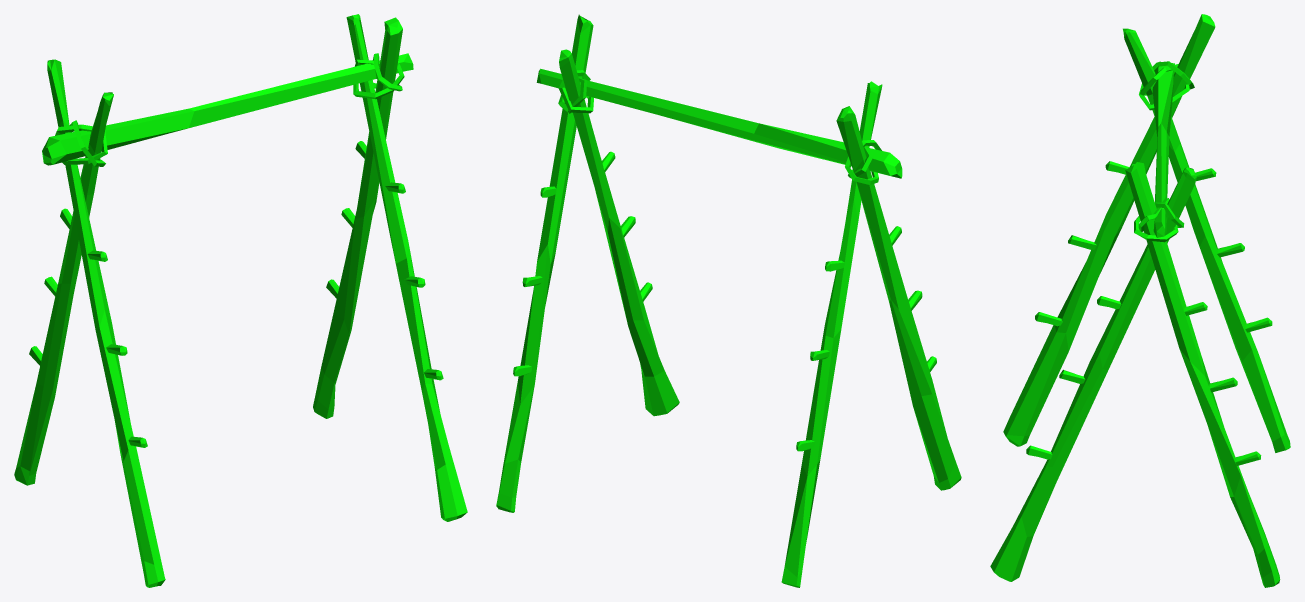
Rendered from SM_Stand_Fabrics_Fantasy.fbx.
The picture shows the model from 3 angles, left to right: view 1: azimuth 30°, elevation 25°; view 2: azimuth 150°, elevation 25°; view 3: azimuth 270°, elevation 25°; orthographic projection. The views are drawn at different scales.
Parts seen in each view (by area): view 1: stand-fabrics-fantasy; view 2: stand-fabrics-fantasy; view 3: stand-fabrics-fantasy.
Part boxes in pixels (x1=…): stand-fabrics-fantasy: x1=14, y1=14, x2=467, y2=587; stand-fabrics-fantasy: x1=496, y1=14, x2=961, y2=587; stand-fabrics-fantasy: x1=990, y1=14, x2=1290, y2=587.
Size of the model in its own units: 1.09 by 1.3 by 0.8206.
